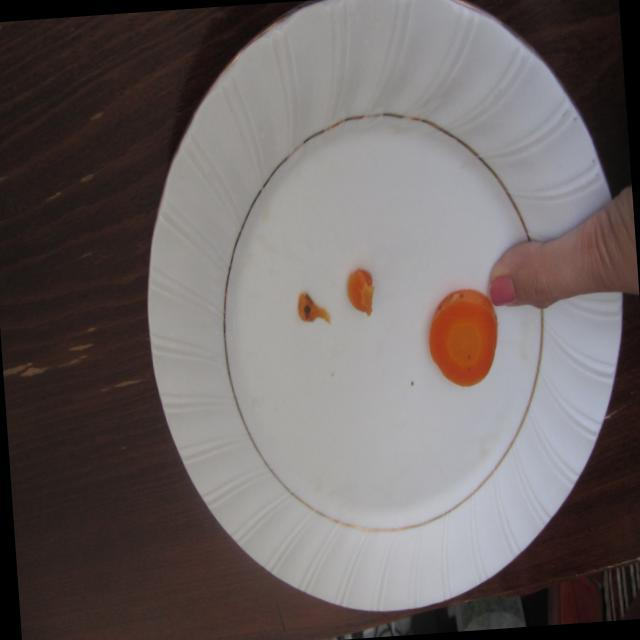Carrot: (422, 282, 505, 396)
Finger: (479, 223, 570, 322)
